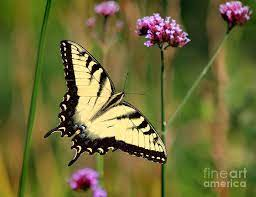insect: (42, 40, 166, 167)
